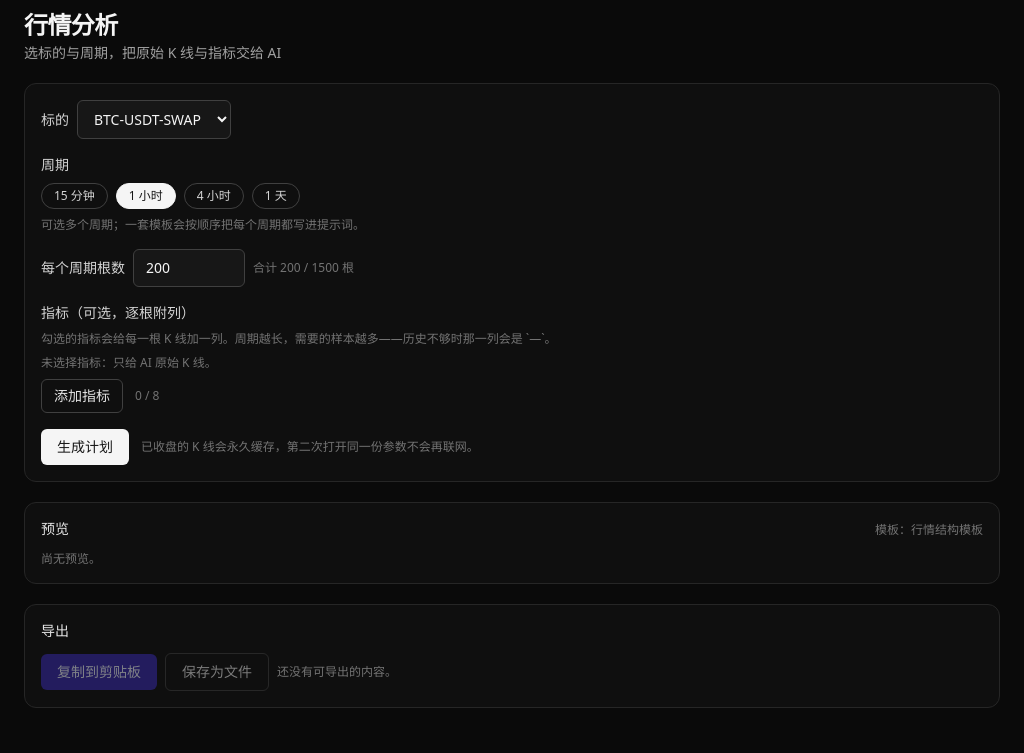
Scenario: KlinePage 计划与取数 › 取数完成后逐序列展示结果，并给出「生成提示词」入口
Click the button "生成计划" at (85, 447), box 41,429 -> 129,465
(page scrolled)
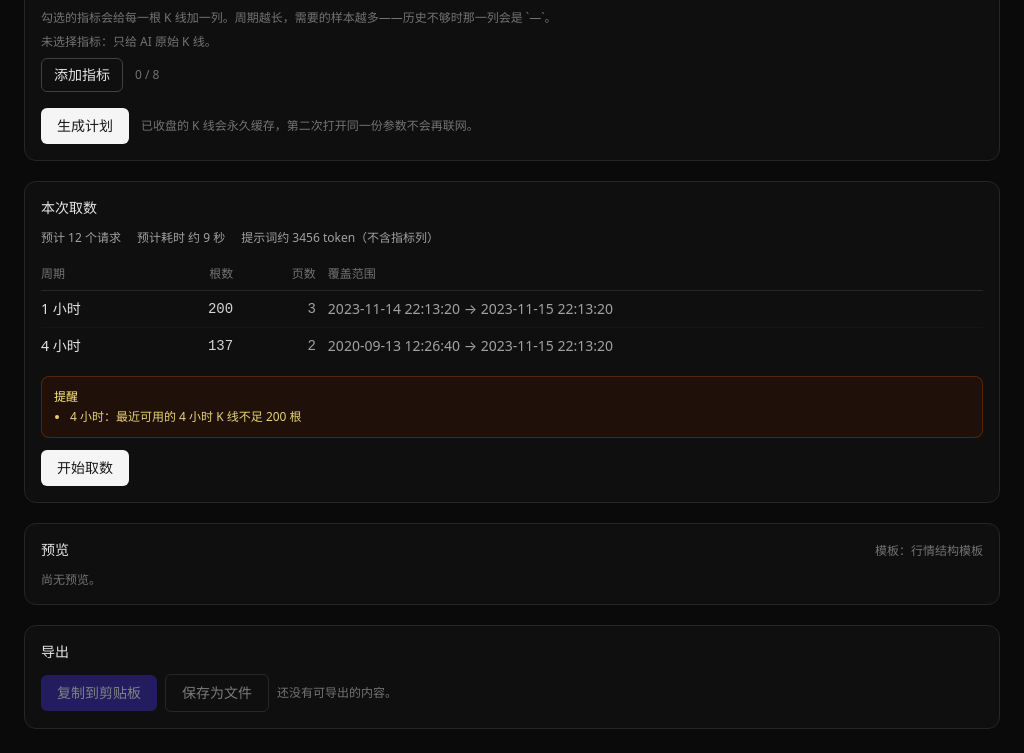
Click the button "开始取数" at (85, 468), box 41,450 -> 129,486
(page scrolled)
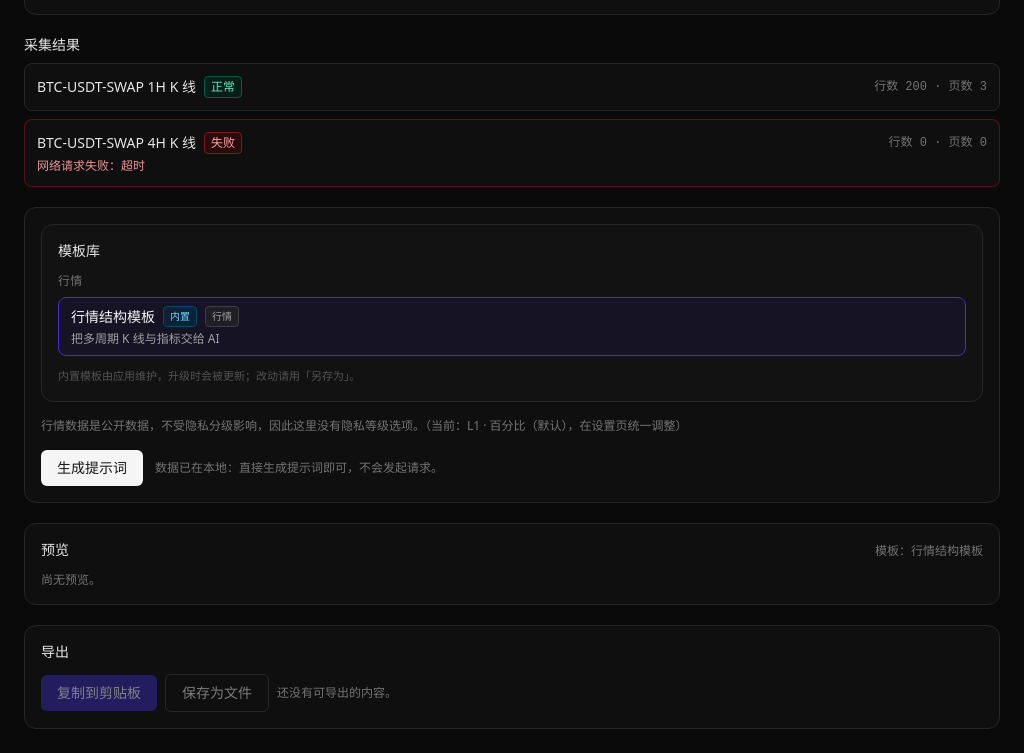
Expected: the text "采集结果" is shown, 24,35 -> 80,54
Expected: the text "BTC-USDT-SWAP 1H K 线" is shown, 37,77 -> 196,97
Expected: the text "正常" is shown, 204,76 -> 242,98
